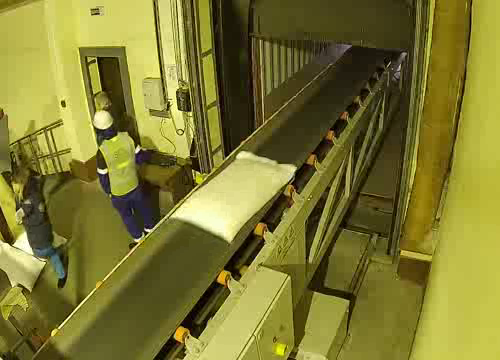bag: (162, 145, 302, 245)
